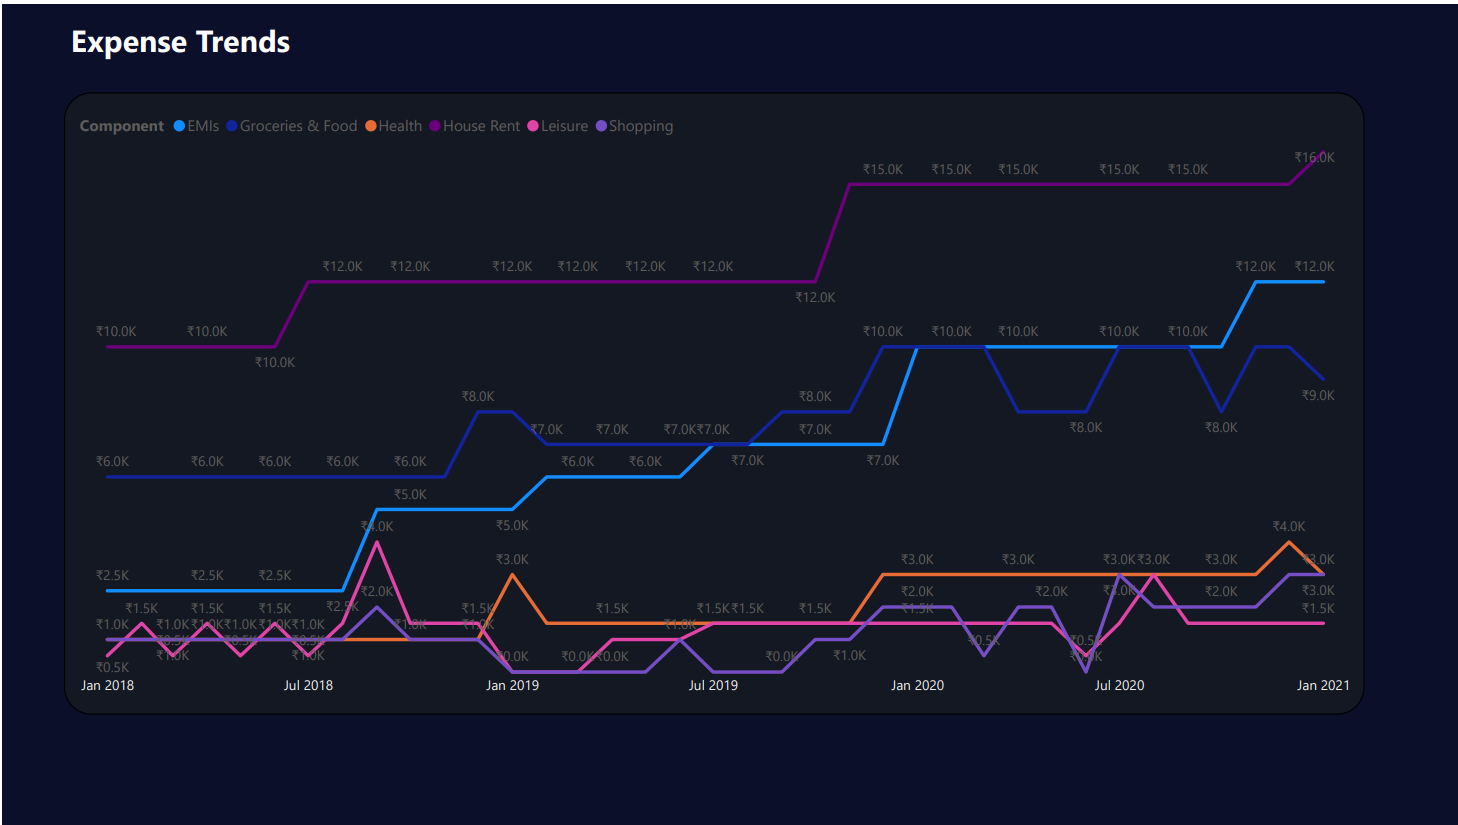

This screenshot's page, from the dashboard's own definition file:
{"tool":"powerbi","page":{"name":"Expense trends","canvas":[1280,720],"ordinal":1},"visuals":[{"type":"lineChart","fields":{"Series":["FinData.Component"],"Category":["FinData.Date"],"Y":["Key Measures.Total Expense"]},"box":[54.4,77.2,1139.1,544.3],"z":0},{"type":"textbox","box":[54.7,8.1,343,47.7],"z":1000}]}

Visuals, with their boxes in screenshot pixels (x1, y1, x2, y2), scaled from the page's 1280x720 canvas onto the 1458x825 screenshot:
lineChart - FinData.Component x FinData.Date: box(62, 88, 1359, 712)
textbox: box(62, 9, 453, 64)
